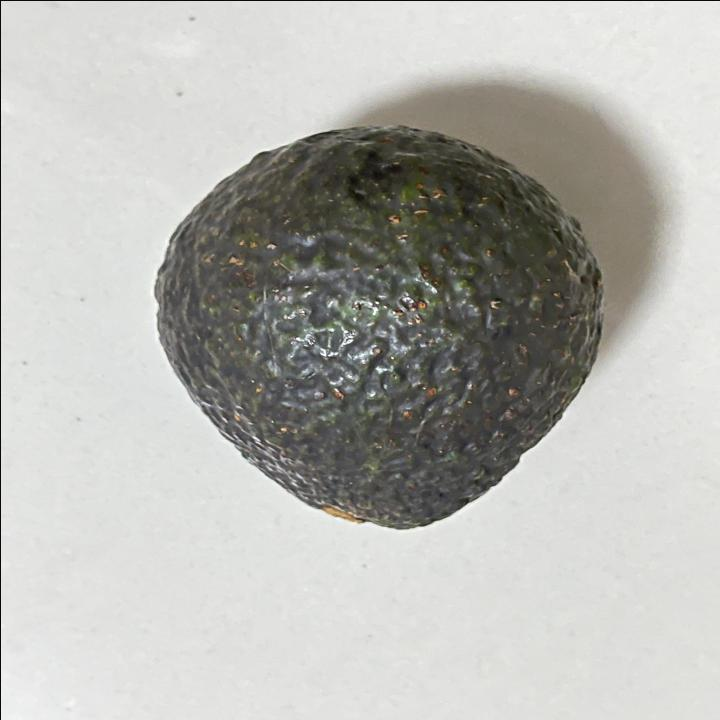Level1: (135, 110, 611, 542)
